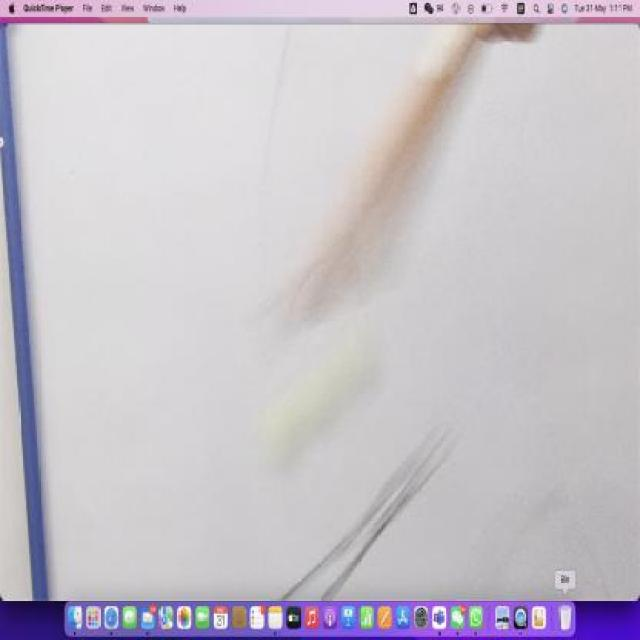baseball: (254, 340, 398, 475)
